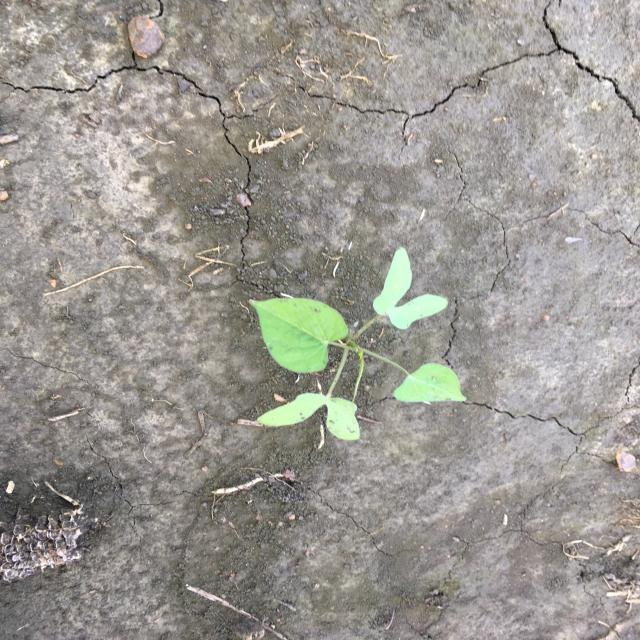MorningGlory: (246, 245, 470, 442)
